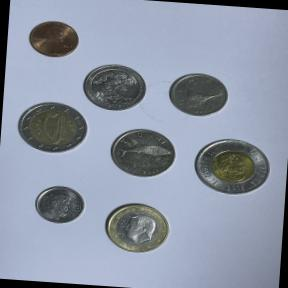1 Euro-B: (94, 196, 180, 262)
2 Euro-B: (12, 98, 91, 158)
Canada-10cent-B: (28, 180, 91, 232)
Canada-2Dollar-B: (183, 128, 278, 204)
Croatia-2Kune-B: (100, 121, 184, 187)
US-1cent-B: (19, 11, 88, 66)
US-25cent-B: (78, 62, 150, 115)
